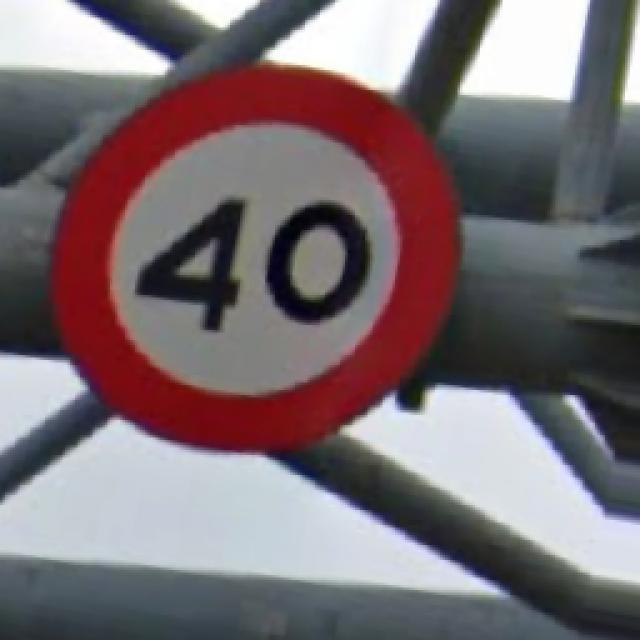Speed Limit -40-: (52, 65, 455, 450)
